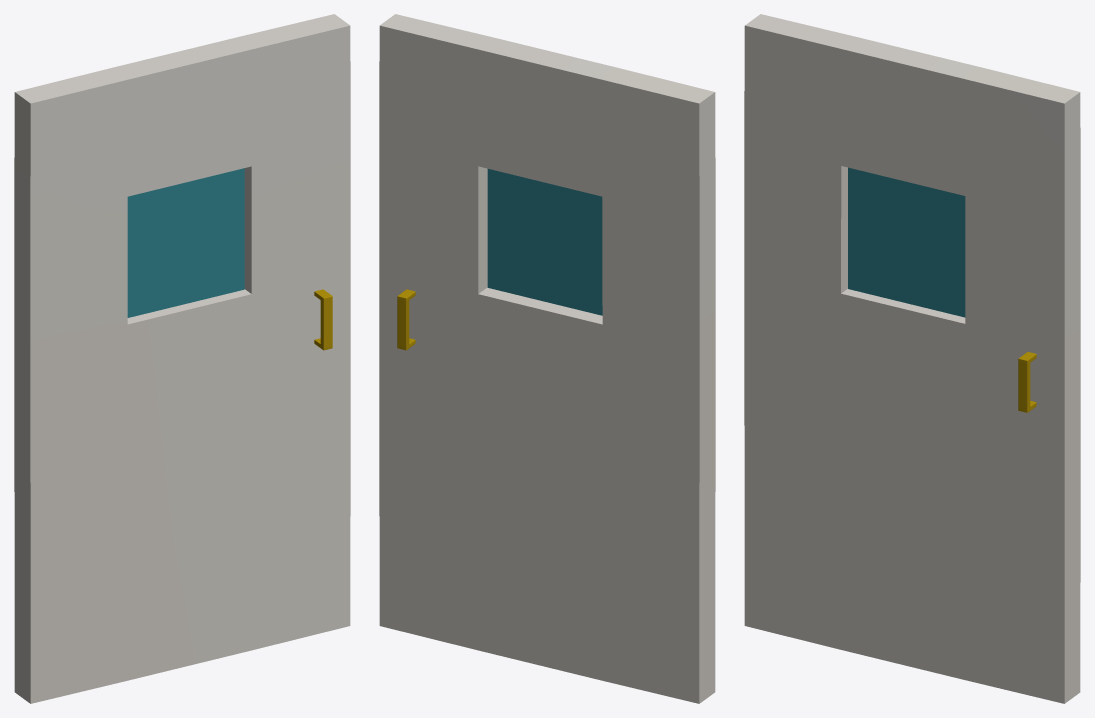
File: Puerta_LP.fbx
3 views of the same model, side by side, from view 1: azimuth 30°, elevation 25°; view 2: azimuth 150°, elevation 25°; view 3: azimuth 330°, elevation 25° (orthographic).
Parts seen in each view (by area): view 1: Puerta, Ventana, Perillas; view 2: Puerta, Ventana, Perillas; view 3: Puerta, Ventana, Perillas.
Part boxes in pixels (<box>): Puerta: <box>14,14,350,703</box>; Ventana: <box>127,168,244,317</box>; Perillas: <box>314,289,332,350</box>; Puerta: <box>379,14,715,703</box>; Ventana: <box>487,169,602,315</box>; Perillas: <box>397,289,415,350</box>; Puerta: <box>744,14,1080,703</box>; Ventana: <box>848,167,965,317</box>; Perillas: <box>1018,352,1036,412</box>.
Bounding box in the file's own units: 1.11 × 2 × 0.2129.
